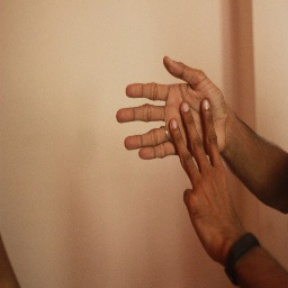M: (109, 50, 231, 197)
